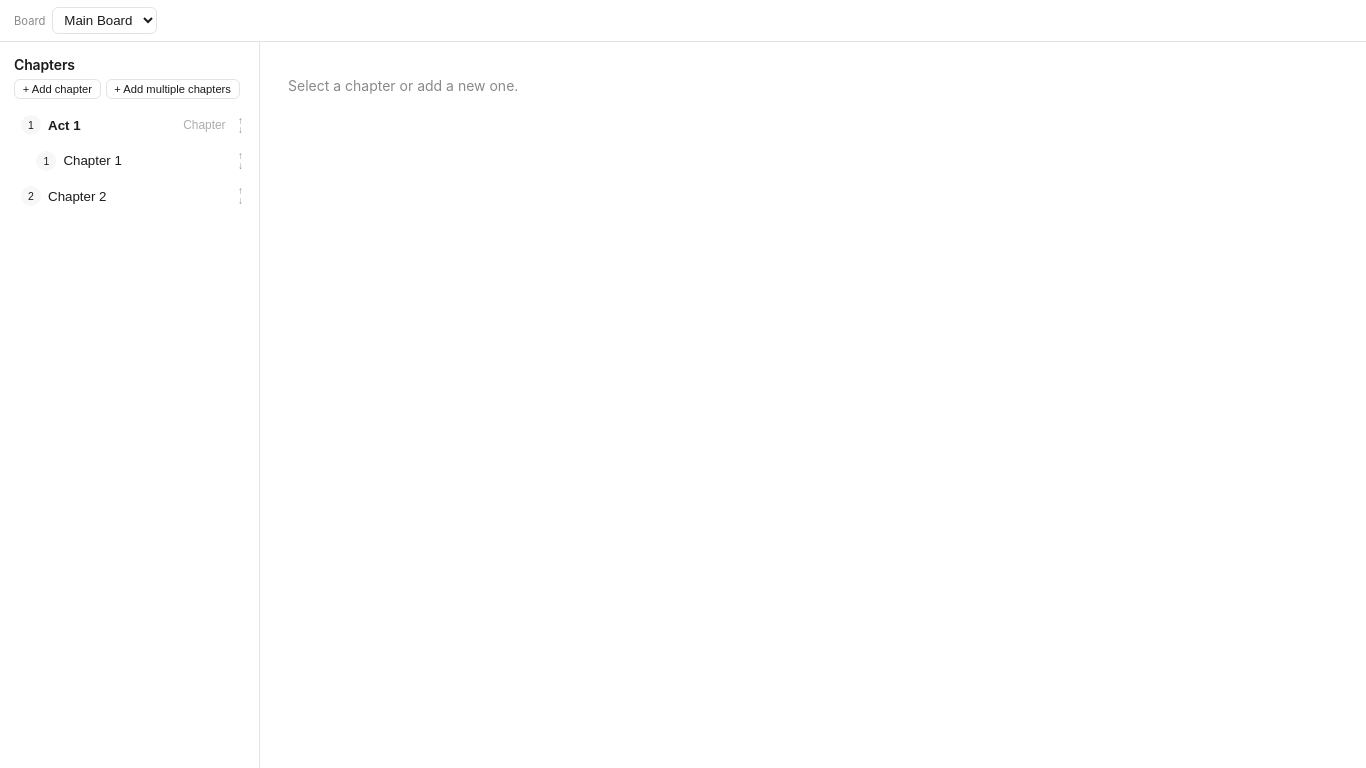
Test: TimelineEditor tab › selecting a unit loads it into the form
The width and height of the screenshot is (1366, 768).
Click the text "Chapter 1" at (93, 161), box [63,153,122,168]
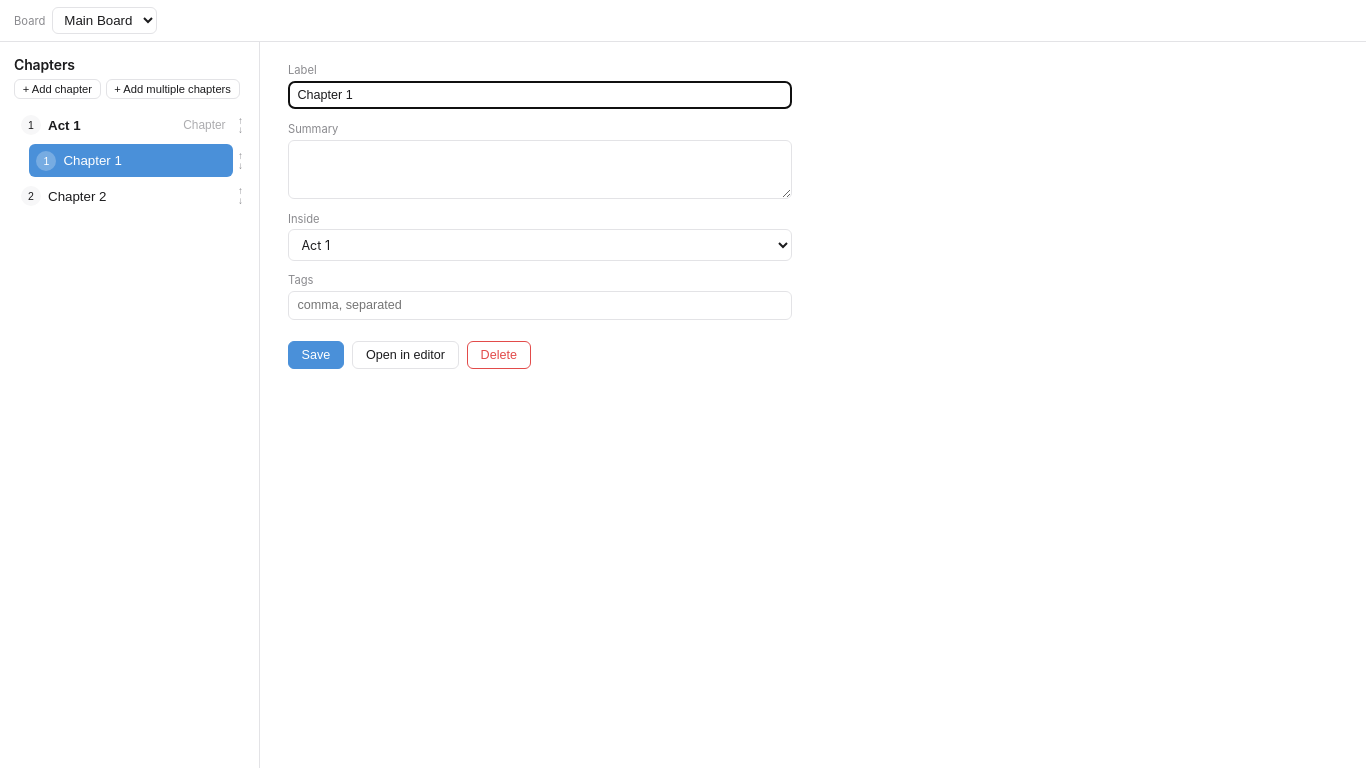
Check: the field labelled "Label" holds "Chapter 1", box [288,81,792,110]
